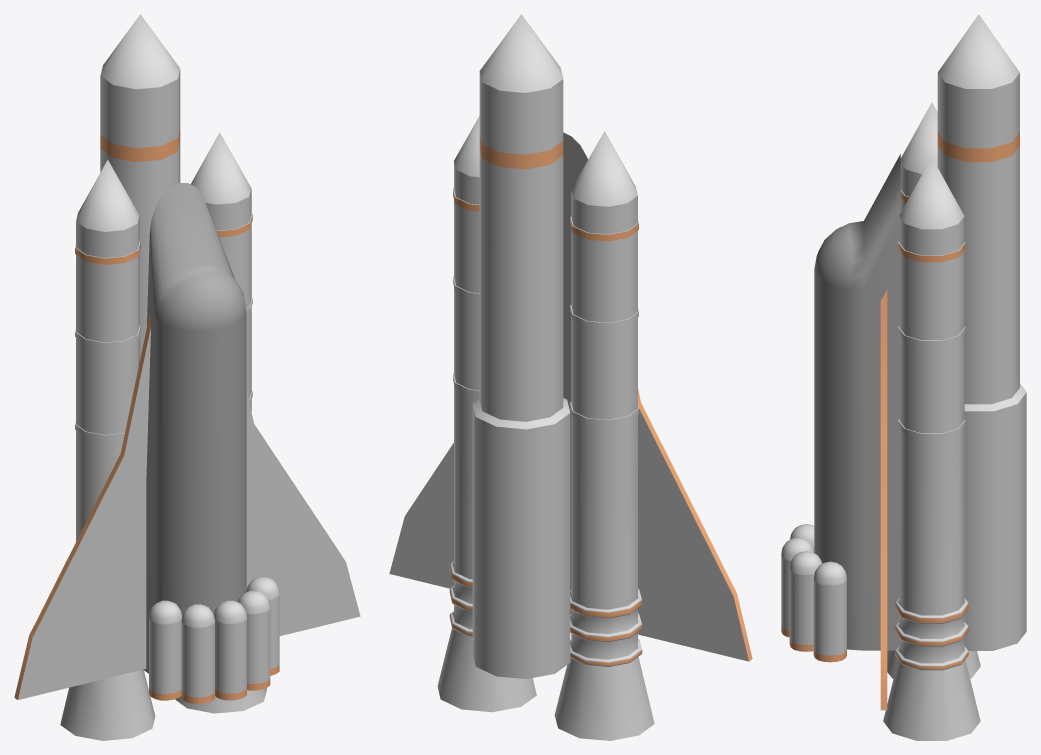
File: rocket2.fbx
3 views of the same model, side by side, from view 1: azimuth 30°, elevation 25°; view 2: azimuth 150°, elevation 25°; view 3: azimuth 270°, elevation 25° (orthographic). The views are drawn at different scales.
Parts seen in each view (by area): view 1: pCone5; view 2: pCone5; view 3: pCone5.
Part boxes in pixels (box(x1,y1,x2,y2)): pCone5: box(14, 14, 360, 740); pCone5: box(389, 14, 752, 740); pCone5: box(781, 14, 1026, 740).
Bounding box in the file's own units: 28.55 × 53.78 × 17.61.
